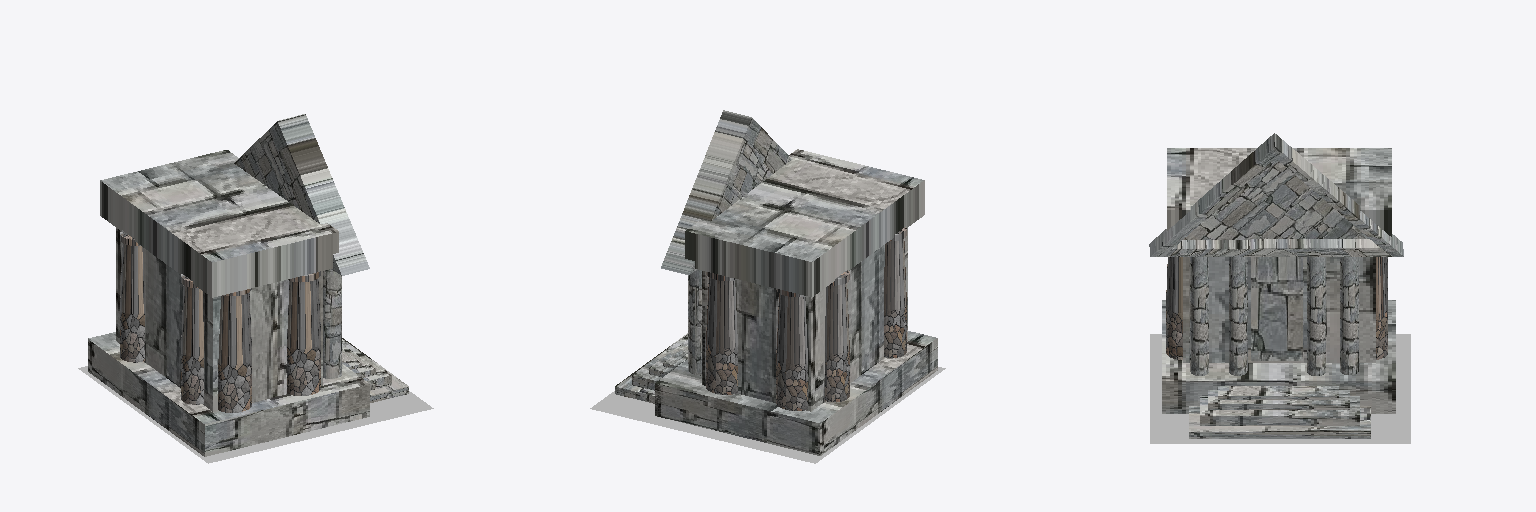
The picture shows the model from 3 angles: view 1: azimuth 30°, elevation 25°; view 2: azimuth 150°, elevation 25°; view 3: azimuth 270°, elevation 25°; orthographic projection.
Parts seen in each view (by area): view 1: Plane.001_Plane.001_Material, Cube_Cube_Material.006, Cylinder.002_Cylinder.002_Material.009, Cylinder.003_Cylinder.003_Material.010, Cylinder.005_Cylinder.005_Material.012, Plane_Plane_Material.001, Cylinder.004_Cylinder.004_Material.011, Cube.004_Cube.004_Material.004, Cube.001_Cube.001_Material.002, Cube.002_Cube.002_Material.005; view 2: Plane.001_Plane.001_Material, Cube_Cube_Material.006, Cylinder.001_Cylinder.001_Material.007, Cylinder_Cylinder_Material.008, Plane_Plane_Material.001, Cylinder.005_Cylinder.005_Material.012, Cylinder.004_Cylinder.004_Material.011, Cube.004_Cube.004_Material.004, Cube.001_Cube.001_Material.002, Cube.002_Cube.002_Material.005; view 3: Plane.001_Plane.001_Material, Cube.004_Cube.004_Material.004, Cube_Cube_Material.006, Plane_Plane_Material.001, Cube.002_Cube.002_Material.005, Cube.001_Cube.001_Material.002, Cylinder.002_Cylinder.002_Material.009, Cube.003_Cube.003_Material.003, Cylinder.001_Cylinder.001_Material.007.
Boxes of the visible parts, x1=… form: Plane.001_Plane.001_Material: x1=100, y1=114, x2=369, y2=411; Cube_Cube_Material.006: x1=88, y1=332, x2=369, y2=456; Cylinder.002_Cylinder.002_Material.009: x1=287, y1=271, x2=320, y2=395; Cylinder.003_Cylinder.003_Material.010: x1=218, y1=288, x2=251, y2=412; Cylinder.005_Cylinder.005_Material.012: x1=120, y1=230, x2=144, y2=362; Plane_Plane_Material.001: x1=78, y1=366, x2=433, y2=463; Cylinder.004_Cylinder.004_Material.011: x1=181, y1=274, x2=203, y2=404; Cube.004_Cube.004_Material.004: x1=323, y1=269, x2=361, y2=378; Cube.001_Cube.001_Material.002: x1=342, y1=338, x2=408, y2=402; Cube.002_Cube.002_Material.005: x1=342, y1=339, x2=391, y2=390; Plane.001_Plane.001_Material: x1=661, y1=110, x2=924, y2=411; Cube_Cube_Material.006: x1=655, y1=331, x2=937, y2=455; Cylinder.001_Cylinder.001_Material.007: x1=706, y1=272, x2=737, y2=394; Cylinder_Cylinder_Material.008: x1=776, y1=289, x2=807, y2=410; Plane_Plane_Material.001: x1=590, y1=367, x2=945, y2=463; Cylinder.005_Cylinder.005_Material.012: x1=825, y1=270, x2=849, y2=401; Cylinder.004_Cylinder.004_Material.011: x1=884, y1=227, x2=906, y2=357; Cube.004_Cube.004_Material.004: x1=663, y1=269, x2=701, y2=375; Cube.001_Cube.001_Material.002: x1=615, y1=333, x2=687, y2=403; Cube.002_Cube.002_Material.005: x1=632, y1=334, x2=687, y2=390; Plane.001_Plane.001_Material: x1=1149, y1=133, x2=1403, y2=362; Cube.004_Cube.004_Material.004: x1=1190, y1=257, x2=1358, y2=399; Cube_Cube_Material.006: x1=1162, y1=300, x2=1395, y2=413; Plane_Plane_Material.001: x1=1150, y1=334, x2=1410, y2=443; Cube.002_Cube.002_Material.005: x1=1200, y1=396, x2=1359, y2=425; Cube.001_Cube.001_Material.002: x1=1189, y1=406, x2=1370, y2=438; Cylinder.002_Cylinder.002_Material.009: x1=1166, y1=257, x2=1182, y2=359; Cube.003_Cube.003_Material.003: x1=1208, y1=390, x2=1349, y2=409; Cylinder.001_Cylinder.001_Material.007: x1=1376, y1=257, x2=1387, y2=359.
Bounding box in the file's own units: 2 × 2.24 × 2.
Materials: 13 (2 with a texture image).